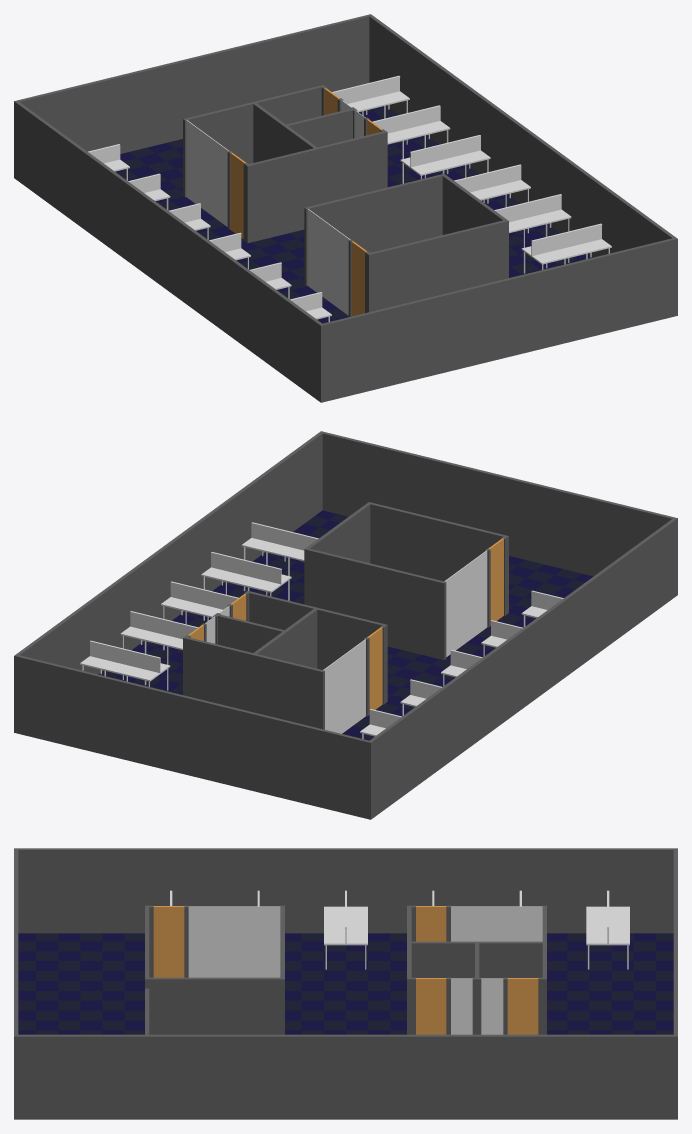
The model's file is Office.fbx.
3 views of the same model, one above another, from view 1: azimuth 30°, elevation 25°; view 2: azimuth 150°, elevation 25°; view 3: azimuth 270°, elevation 25° (orthographic). The views are drawn at different scales.
Visible parts, largest first — view 1: Cube.003, Plane, Cube.015, Cube.014, Cube.016, Cube.013, Cube.018, Cube.019, Cube.004, Cube.011, Cube.023, Cube.024 (+4 smaller); view 2: Cube.003, Plane, Cube.013, Cube.016, Cube.014, Cube.015, Cube.019, Cube.011, Cube.004, Cube.021, Cube.025, Cube.022 (+2 smaller); view 3: Cube.003, Plane, Cube.011, Cube.024, Cube.025, Cube.009, Cube.008, Cube.004.
Boxes of the visible parts, bbox=[...] form: Cube.003: bbox=[14, 14, 677, 402]; Plane: bbox=[115, 106, 593, 323]; Cube.015: bbox=[400, 135, 490, 183]; Cube.014: bbox=[521, 223, 611, 273]; Cube.016: bbox=[372, 105, 450, 159]; Cube.013: bbox=[494, 194, 571, 247]; Cube.018: bbox=[332, 75, 409, 118]; Cube.019: bbox=[454, 164, 530, 207]; Cube.004: bbox=[230, 152, 245, 238]; Cube.011: bbox=[351, 241, 366, 316]; Cube.023: bbox=[128, 173, 170, 210]; Cube.024: bbox=[88, 144, 129, 180]; Cube.003: bbox=[14, 431, 677, 819]; Plane: bbox=[98, 510, 593, 740]; Cube.013: bbox=[201, 552, 291, 600]; Cube.016: bbox=[80, 640, 170, 690]; Cube.014: bbox=[241, 522, 318, 576]; Cube.015: bbox=[120, 611, 198, 664]; Cube.019: bbox=[161, 581, 238, 624]; Cube.011: bbox=[488, 538, 503, 624]; Cube.004: bbox=[367, 627, 382, 709]; Cube.021: bbox=[521, 590, 563, 627]; Cube.025: bbox=[441, 649, 482, 686]; Cube.022: bbox=[400, 679, 442, 716]; Cube.003: bbox=[14, 848, 677, 1119]; Plane: bbox=[18, 933, 673, 1034]; Cube.011: bbox=[153, 906, 184, 977]; Cube.024: bbox=[586, 890, 629, 969]; Cube.025: bbox=[324, 890, 367, 969]; Cube.009: bbox=[507, 978, 538, 1034]; Cube.008: bbox=[416, 978, 446, 1034]; Cube.004: bbox=[416, 906, 446, 941].
Bounding box in the file's own units: 10200 × 2100 × 15200.
